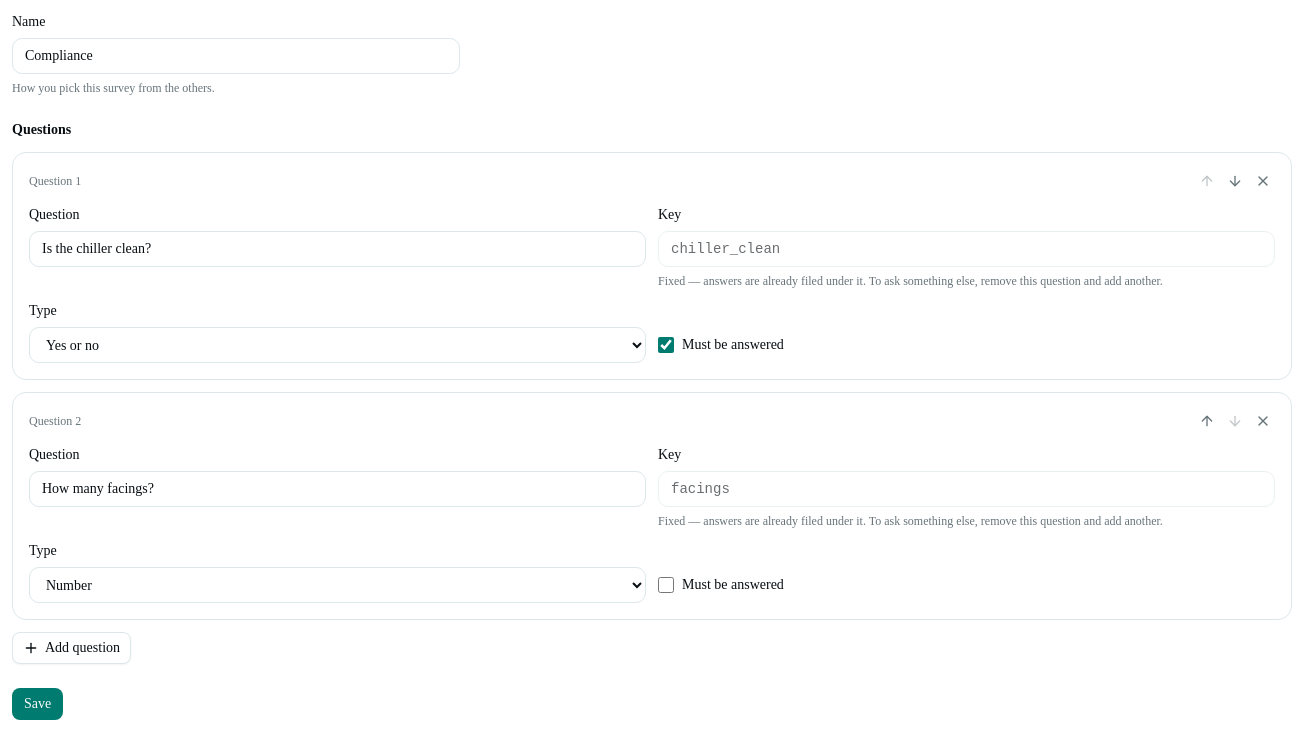
Test: <SurveyEditor> › removes a question
Expected: the button "Add question" is shown, [12,632,131,664]
Click the button named "Remove question 1" at (1263, 181), box [1251,169,1275,193]
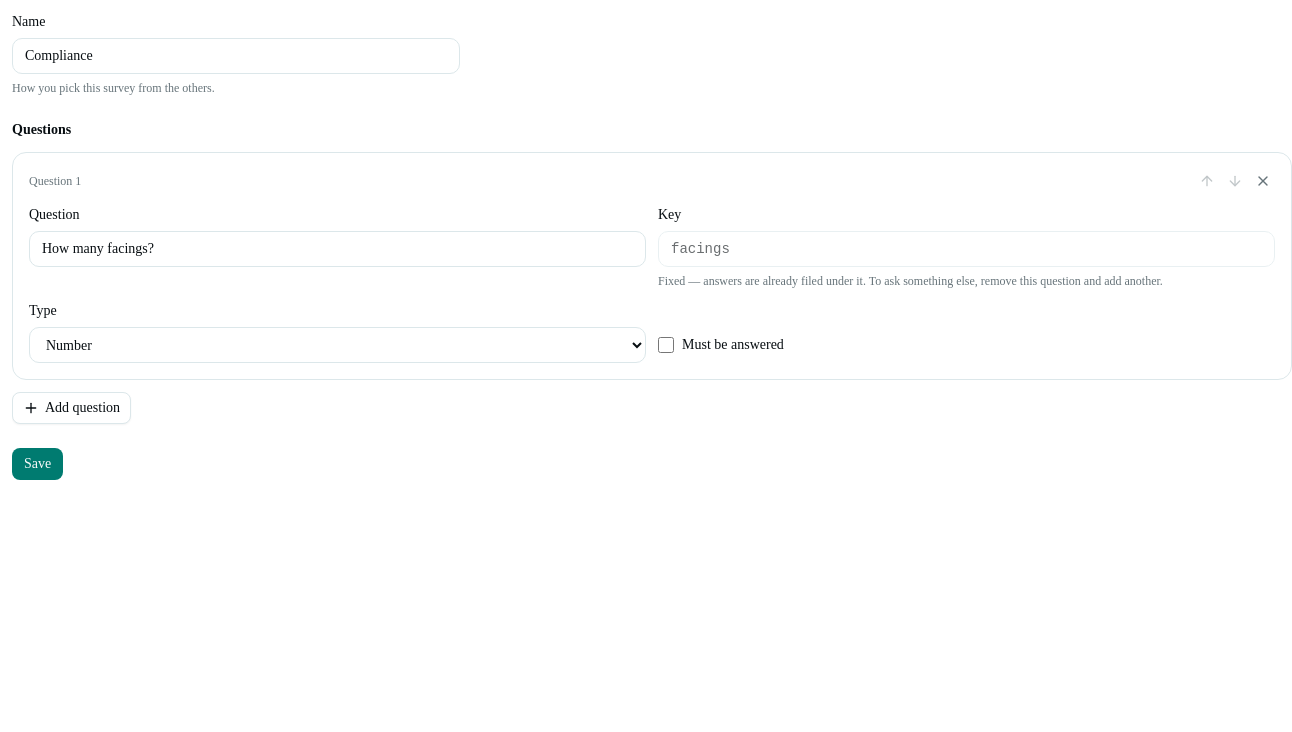
Expected: the field labelled "Question" holds "How many facings?", [29,231,646,267]
Expected: the number of list items is 1, [12,152,1291,380]
